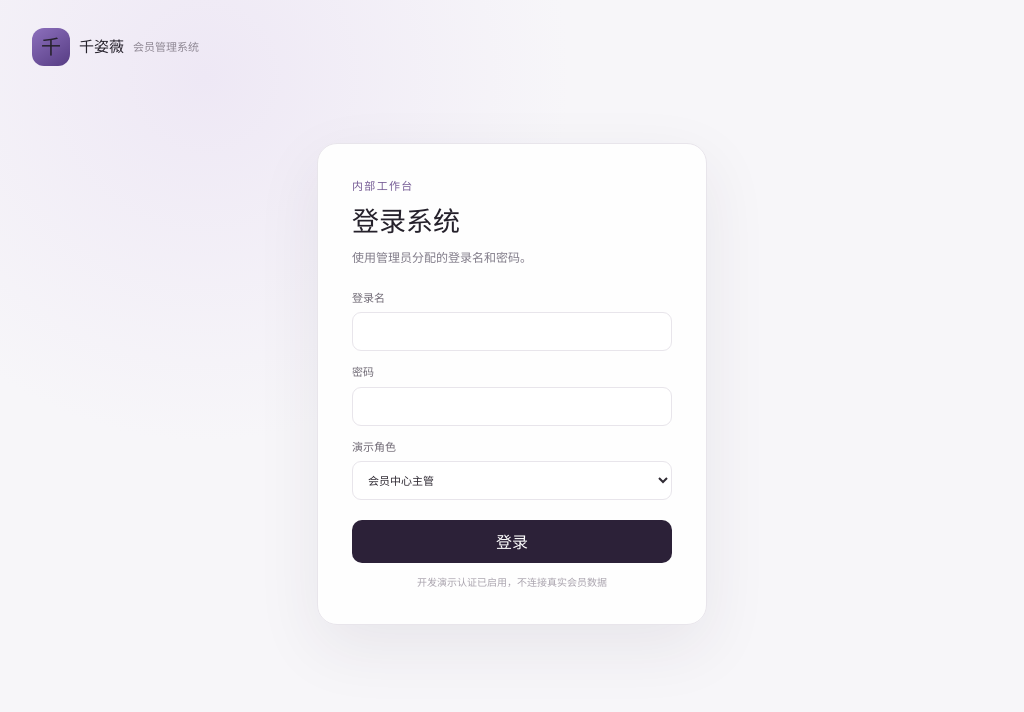
Dashboard › lets account 002 edit every service task status
The width and height of the screenshot is (1024, 712).
Type "002" into the field labelled "登录名".
click(512, 332); type("002")  # box [352,312,672,351]
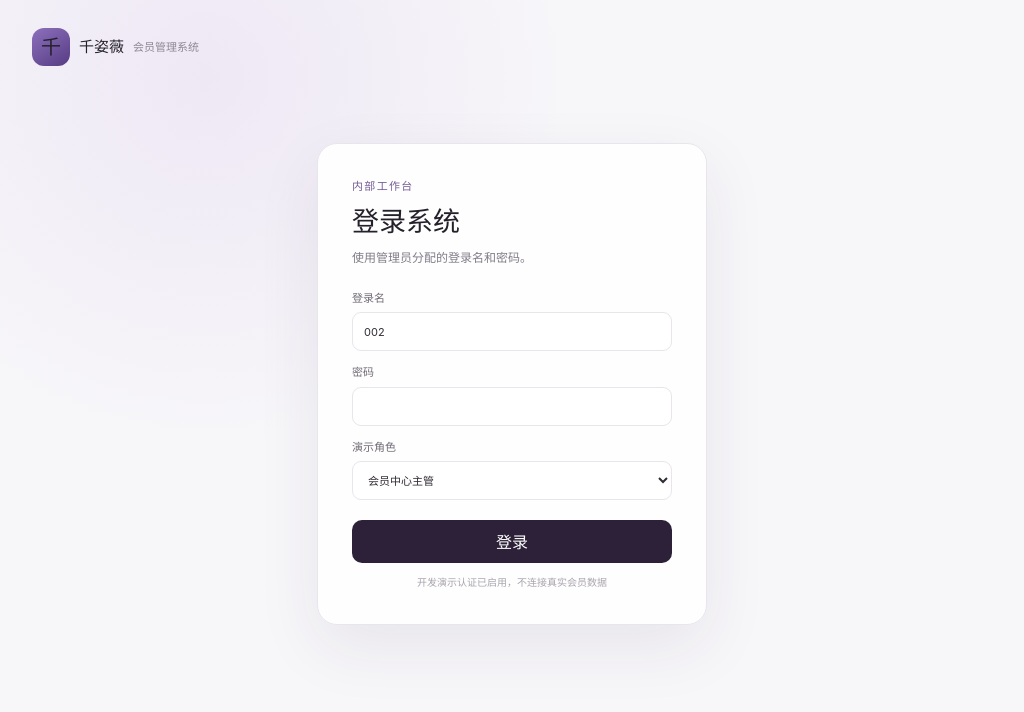
Type "Demo123!" into the password field labelled "密码".
click(512, 406); type("Demo123!")  # box [352,387,672,426]
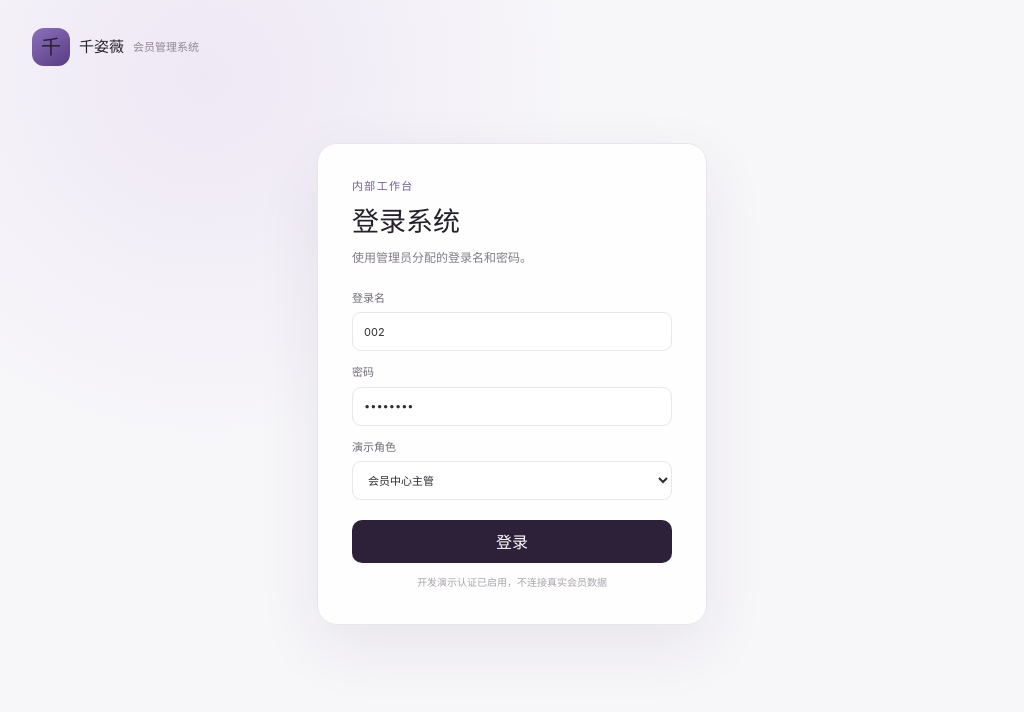
Select "管理层" in the dropdown labelled "演示角色" at x=512, y=481, box [352,461,672,500]
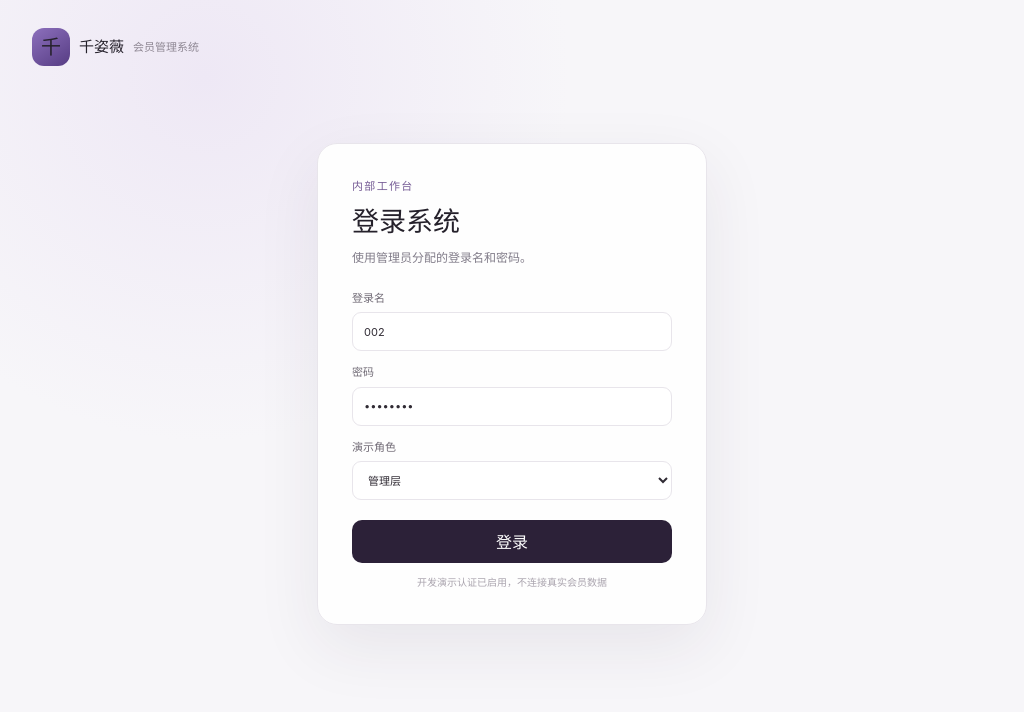
Click the button "登录".
click(512, 542)  # box [352,520,672,563]
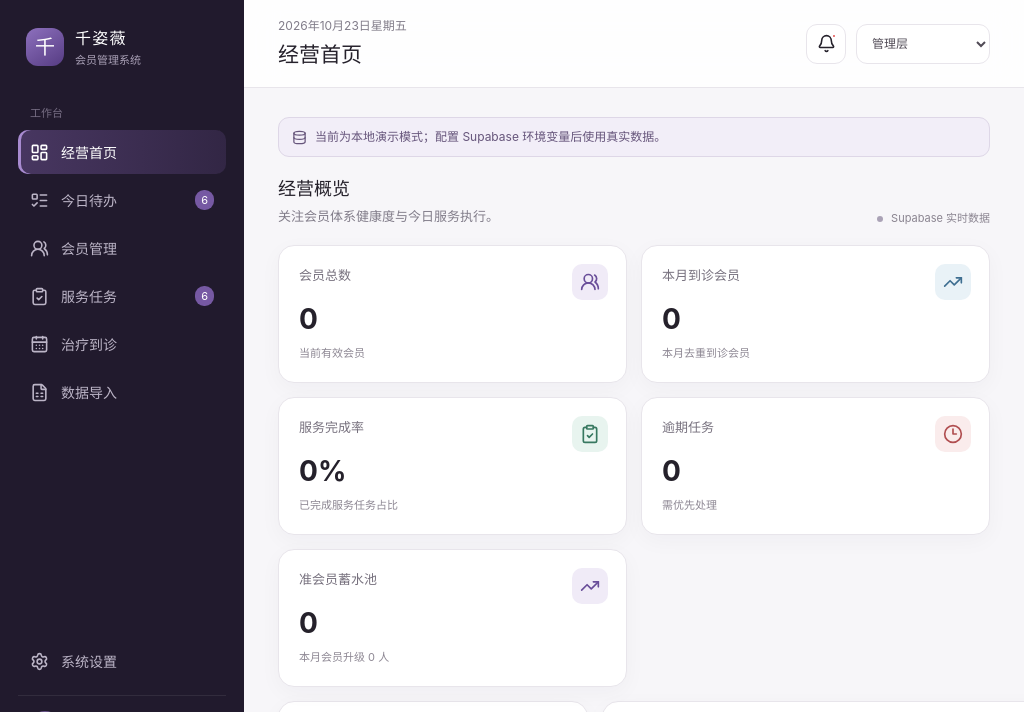
Click the button "服务任务 6".
click(122, 296)  # box [18,274,226,318]
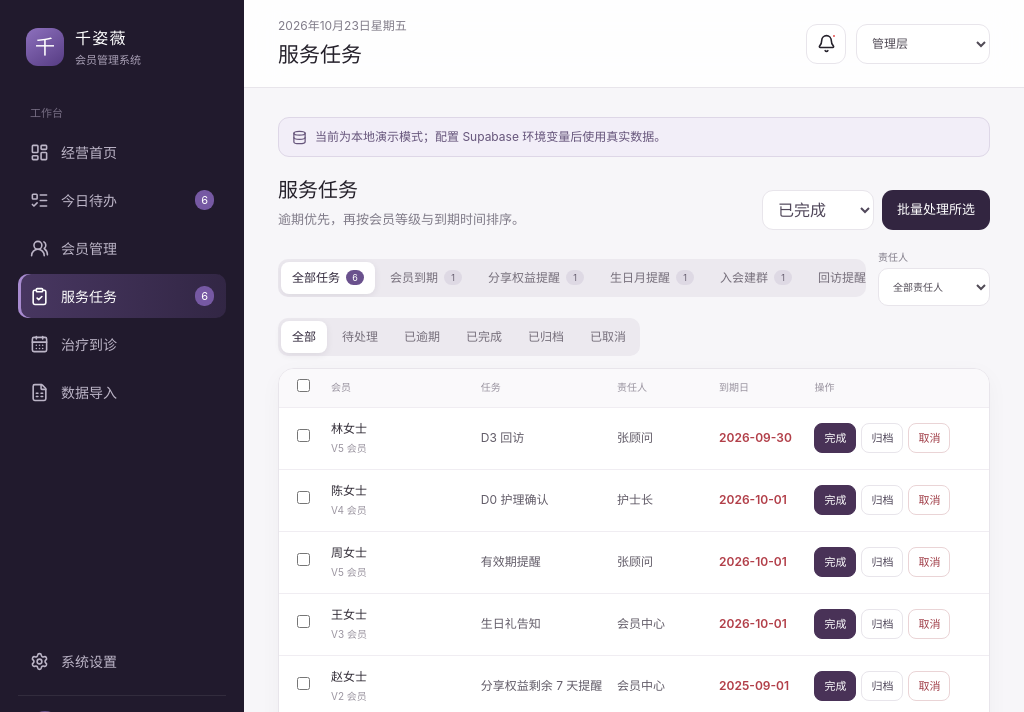
Now the button with aria-label "完成 林女士 D3 回访" is shown, box [814,423,856,453]
Now the button with aria-label "归档 林女士 D3 回访" is shown, box [861,423,903,453]
Now the button with aria-label "取消 林女士 D3 回访" is shown, box [908,423,950,453]
